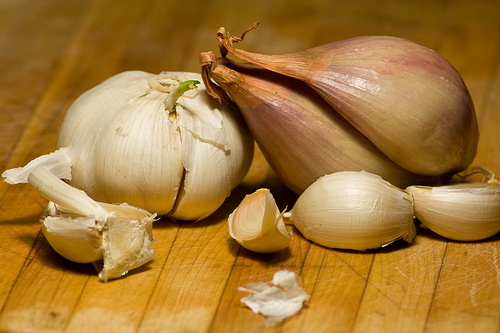onion: (214, 24, 489, 184)
